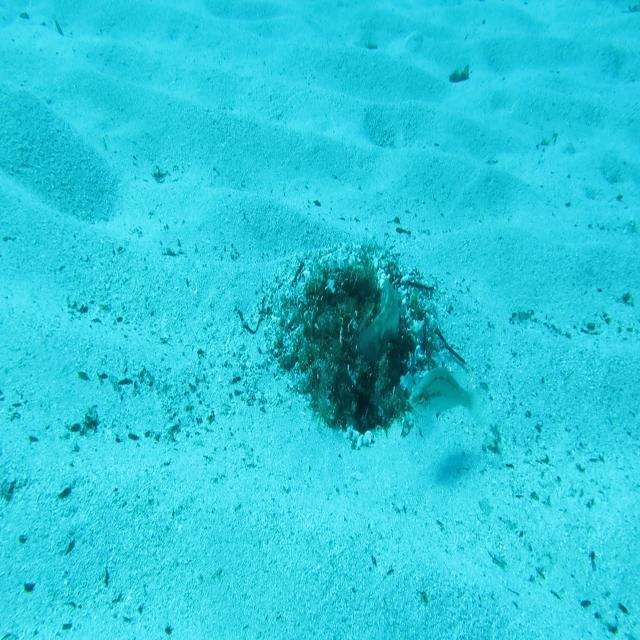NIP_CORE: (359, 276, 402, 366)
core_nest: (332, 277, 389, 332)
female: (406, 363, 492, 440)
nest: (255, 230, 460, 466)
vegetation: (446, 62, 475, 86)
